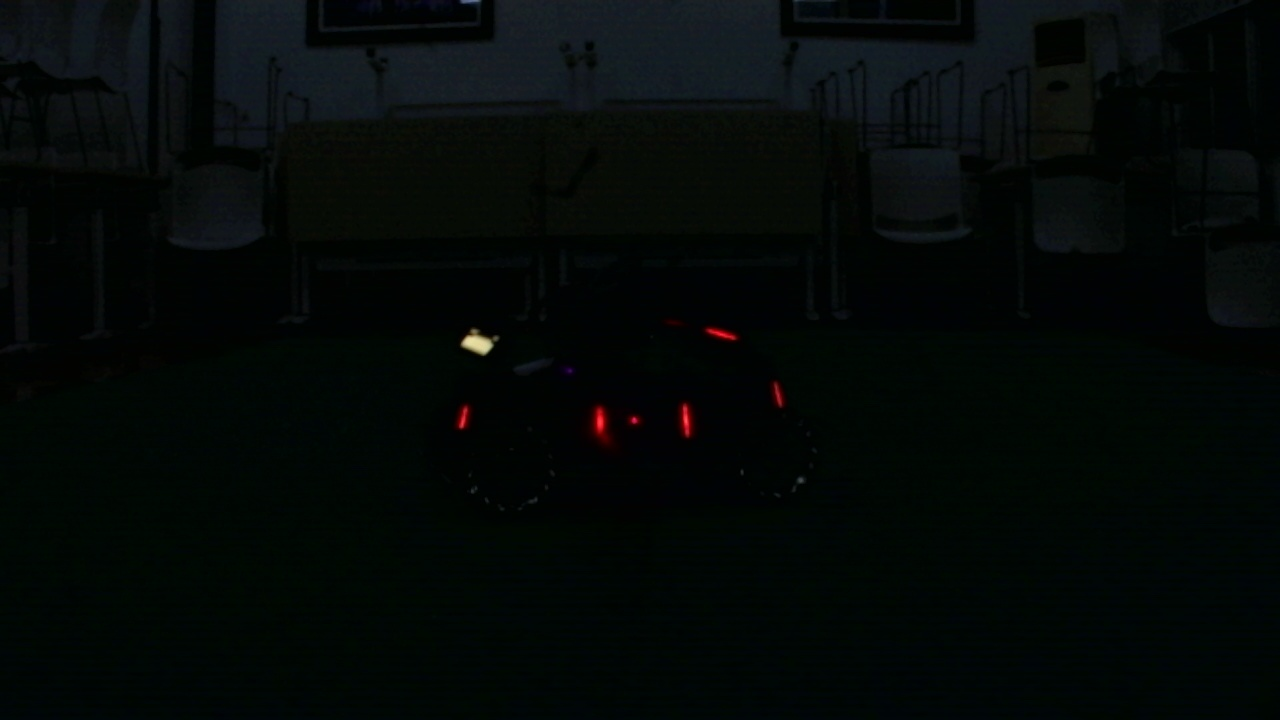lamp: (590, 398, 607, 439), (680, 397, 692, 442), (458, 399, 470, 436)
pair1: (593, 407, 692, 439)
